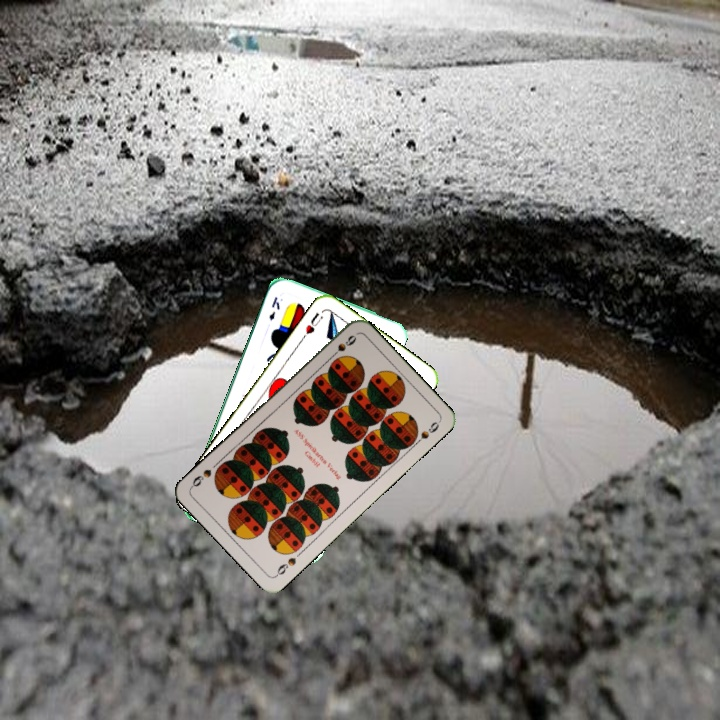EK: (265, 292, 283, 323)
HU: (297, 308, 326, 342)
S9: (325, 331, 359, 362), (271, 553, 299, 579)
